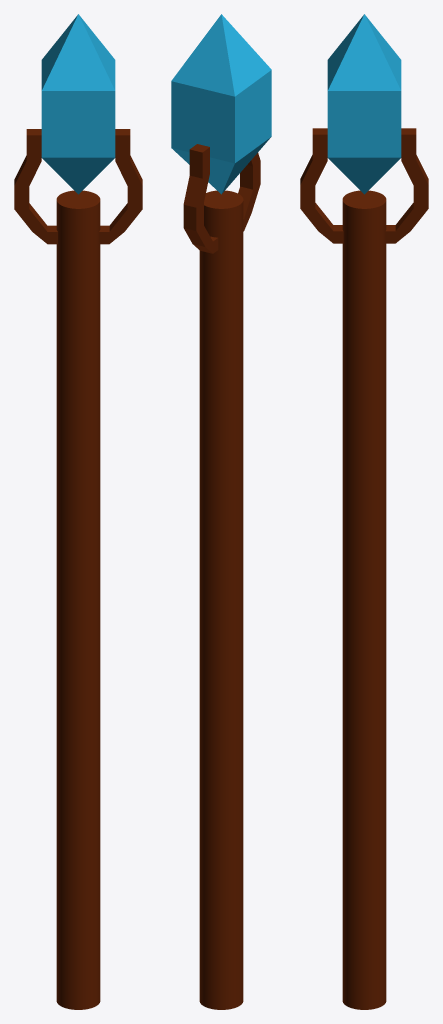
The model's file is IceStaff.fbx.
3 renders of one model, left to right at view 1: azimuth 90°, elevation 25°; view 2: azimuth 150°, elevation 25°; view 3: azimuth 270°, elevation 25°, orthographic.
Parts seen in each view (by area): view 1: Cylinder, Cube, Cube.001; view 2: Cylinder, Cube, Cube.001; view 3: Cylinder, Cube, Cube.001.
Boxes of the visible parts, x1=… form: Cylinder: x1=56, y1=190, x2=100, y2=1009; Cube: x1=41, y1=14, x2=115, y2=194; Cube.001: x1=14, y1=129, x2=142, y2=244; Cylinder: x1=199, y1=190, x2=243, y2=1009; Cube: x1=171, y1=14, x2=271, y2=194; Cube.001: x1=183, y1=144, x2=260, y2=253; Cylinder: x1=342, y1=190, x2=386, y2=1009; Cube: x1=327, y1=14, x2=401, y2=194; Cube.001: x1=300, y1=128, x2=428, y2=243.
Bounding box in the file's own units: 10 × 148 × 17.43.
